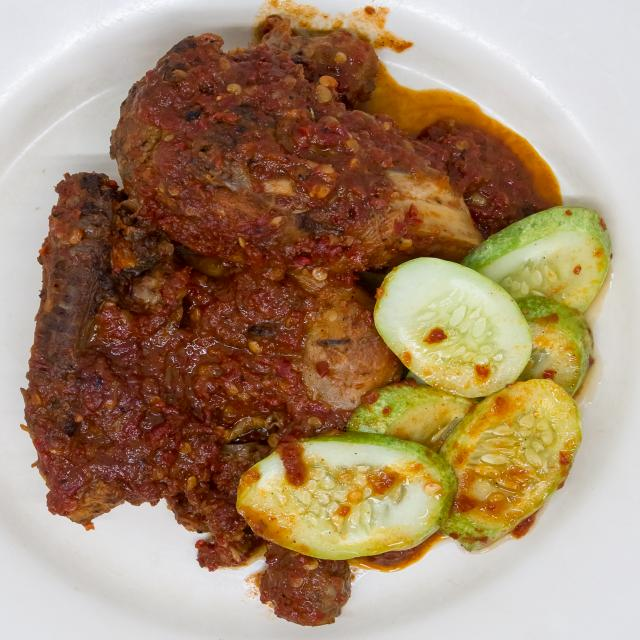Ayam-Bumbu-Rujak: (13, 18, 614, 626)
